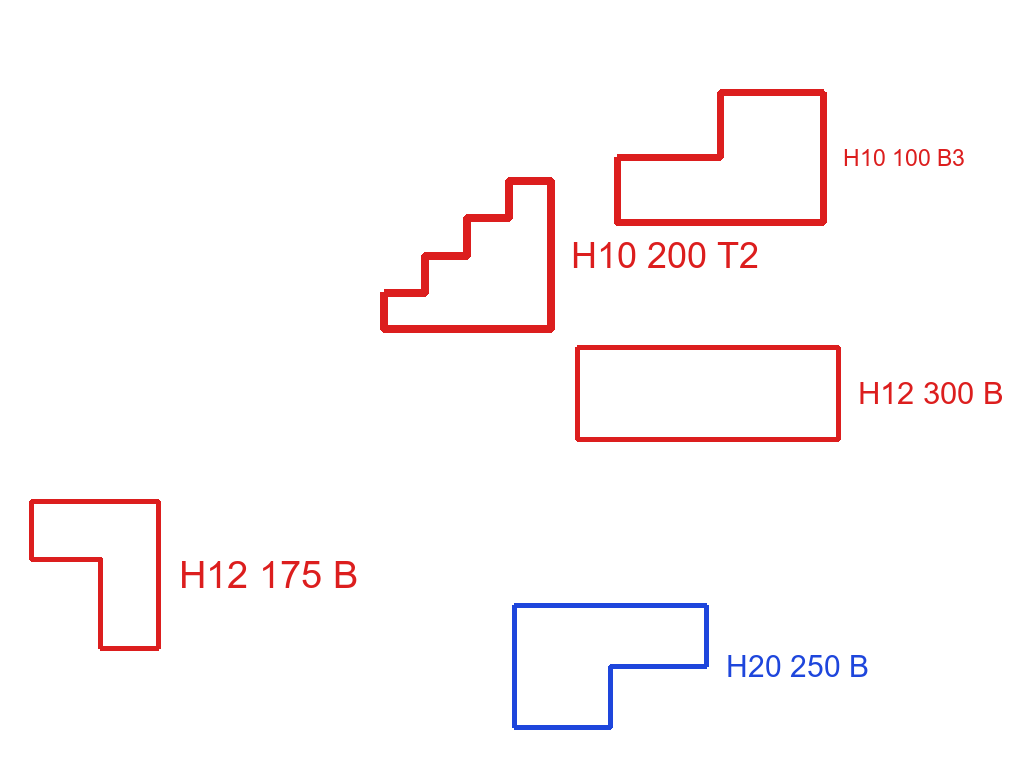shape: (612, 87, 829, 228), (378, 175, 557, 336), (573, 343, 843, 444), (510, 601, 711, 732), (27, 497, 163, 653)
text: (569, 240, 761, 270), (177, 559, 360, 590), (856, 381, 1006, 407), (724, 653, 871, 679), (841, 147, 967, 168)
